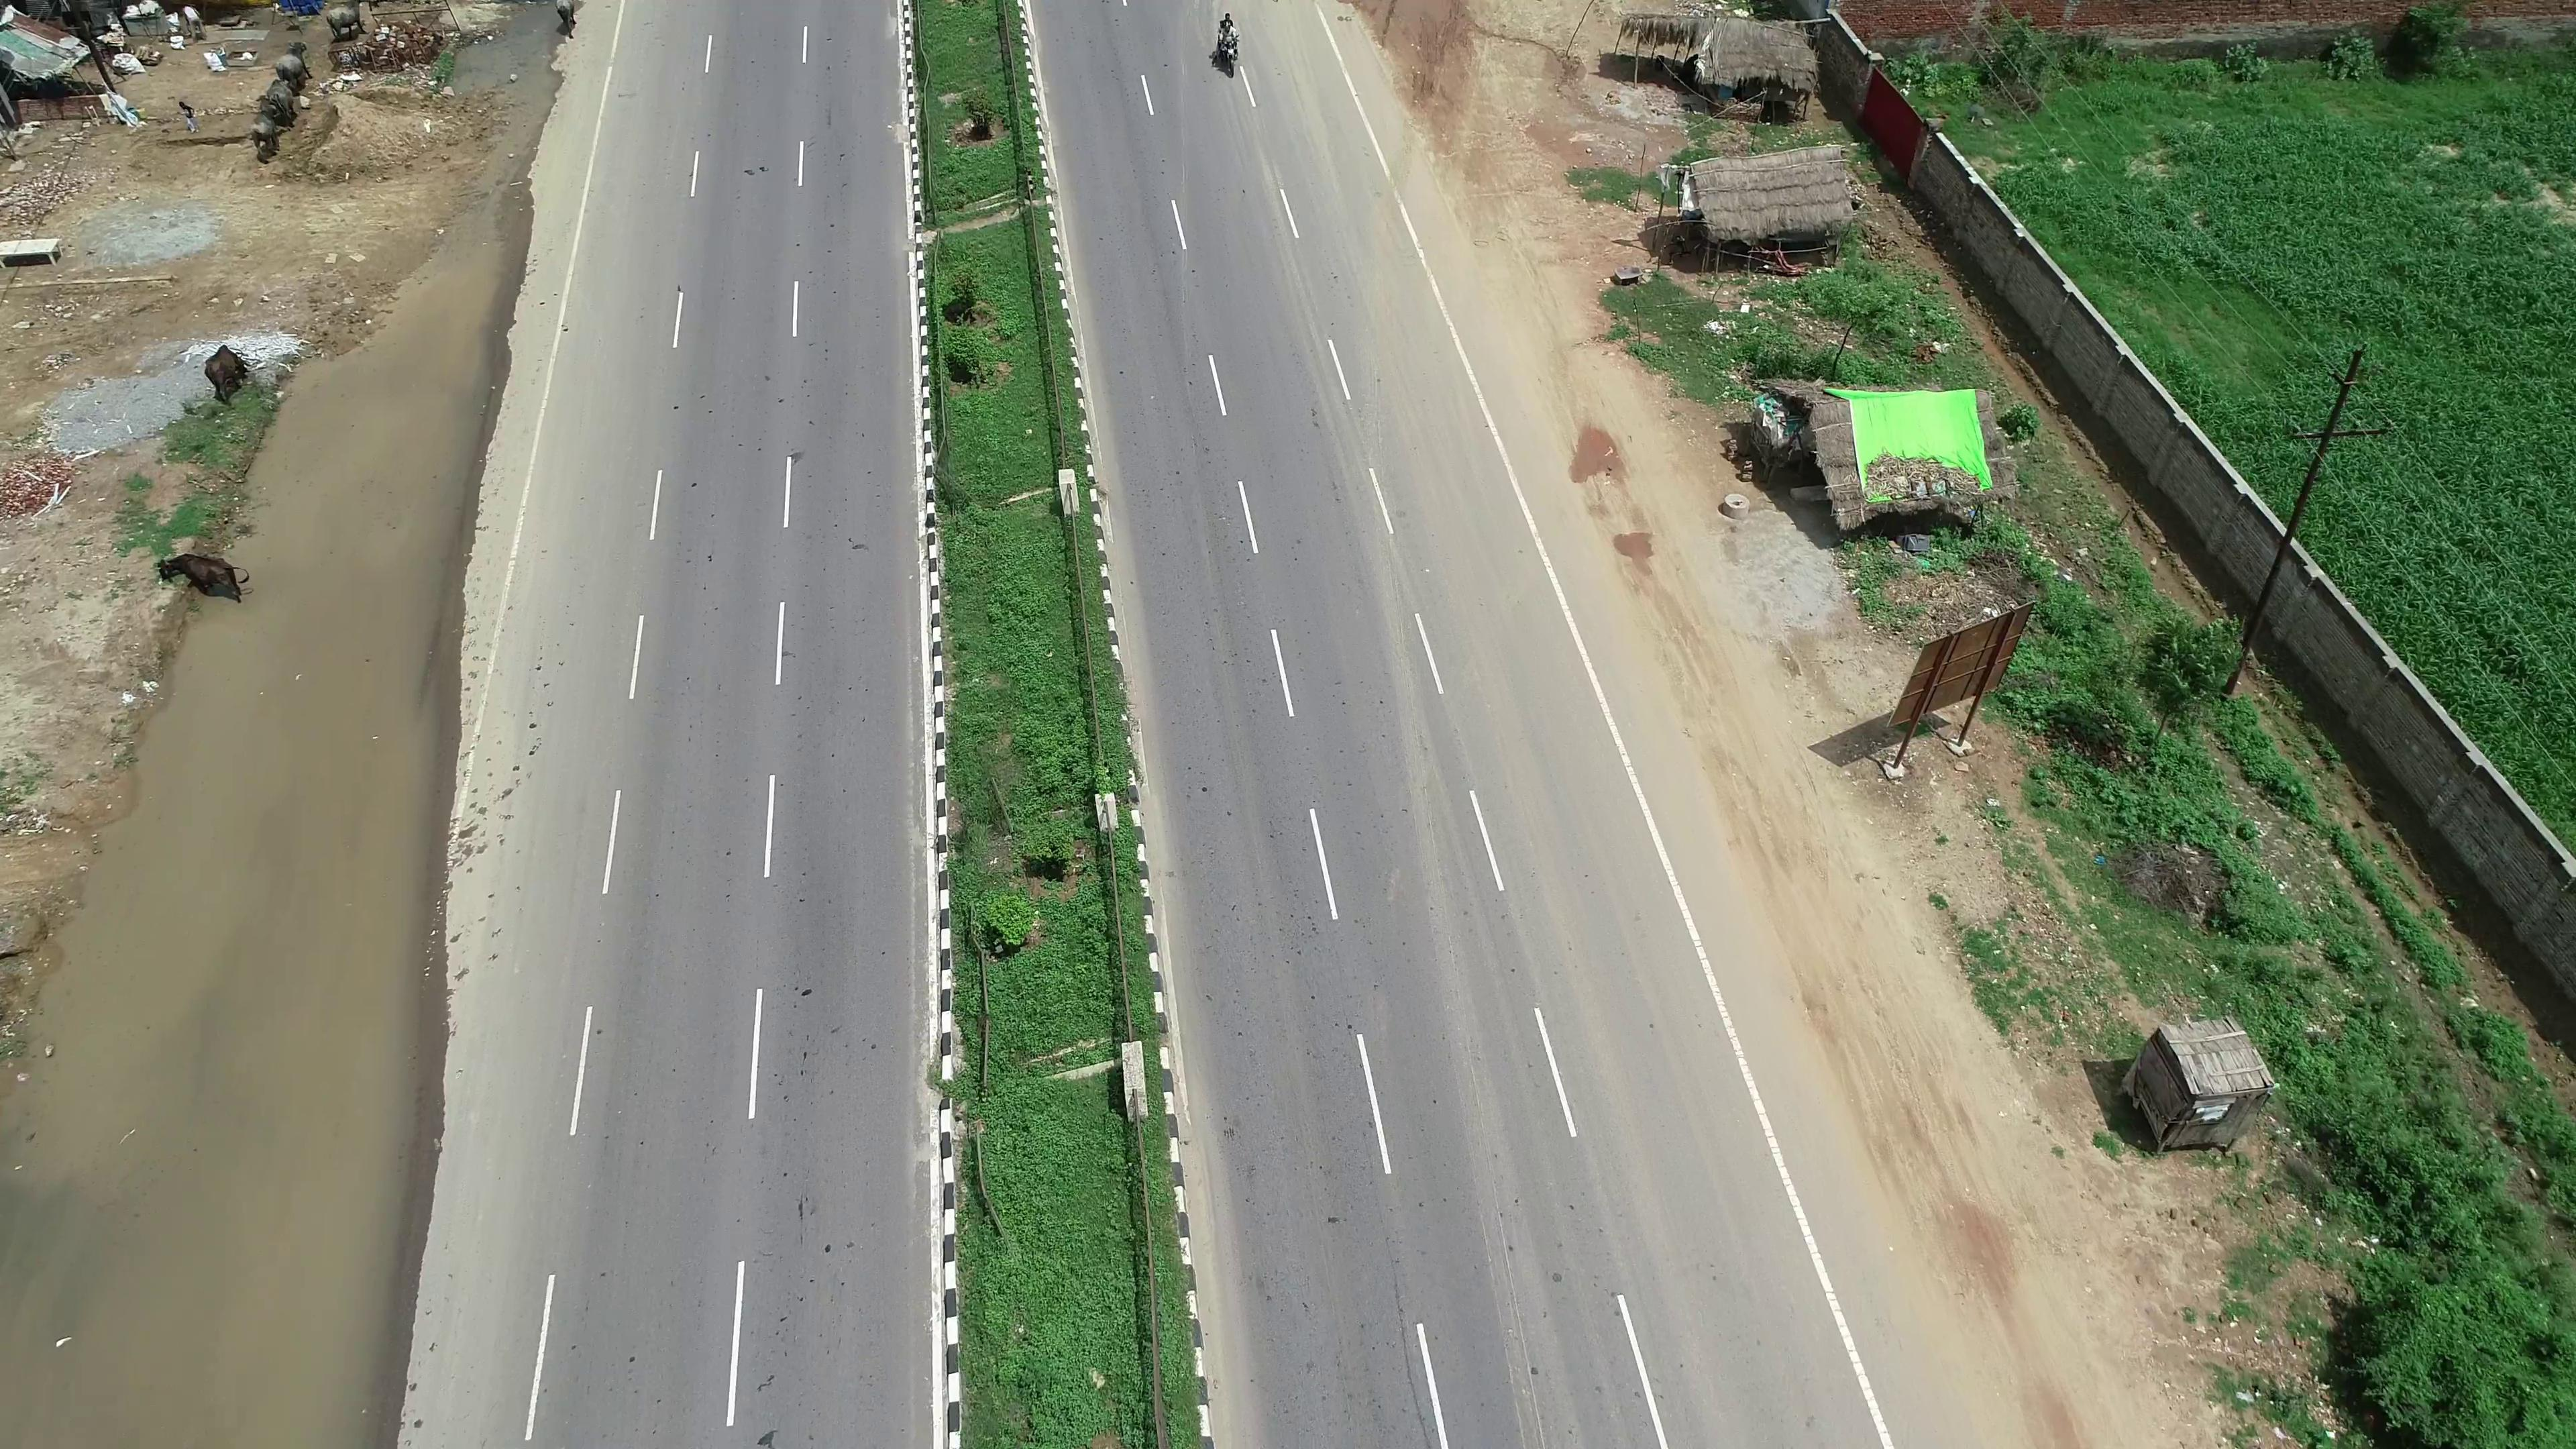Waterlogging: (18, 655, 455, 1369), (244, 214, 541, 637)
